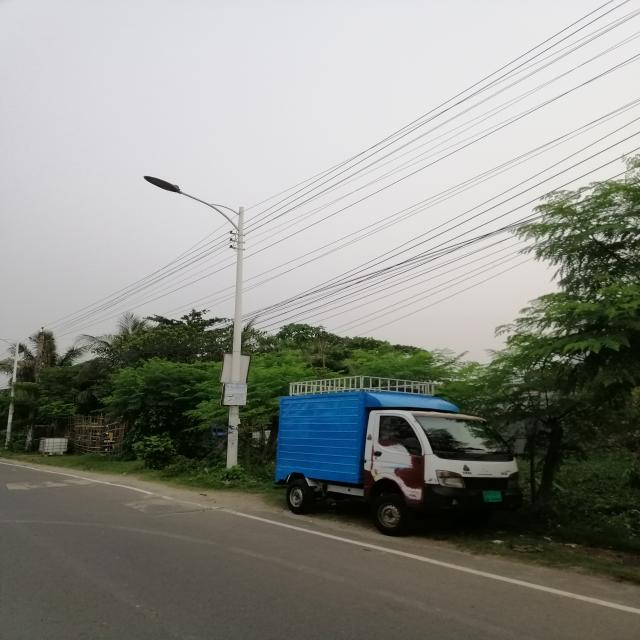Pick-up-van: (271, 373, 528, 537)
